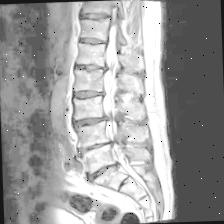disc: (72, 4, 116, 28), (76, 32, 112, 48)
hdisc: (86, 156, 124, 183), (66, 113, 116, 133), (65, 85, 113, 102), (70, 138, 120, 154), (70, 57, 112, 76)
